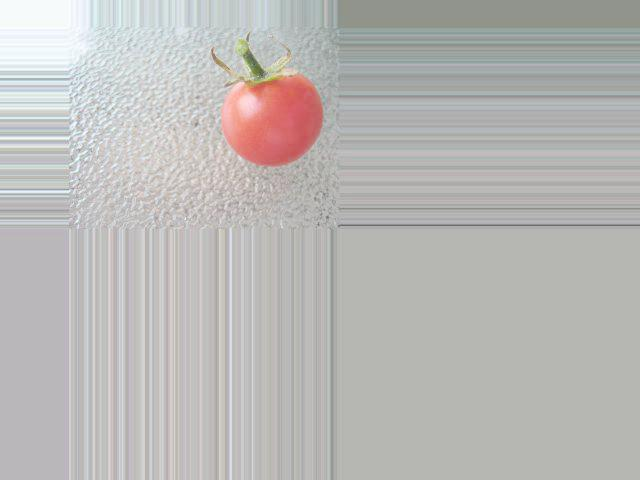tomato: (219, 73, 322, 167)
